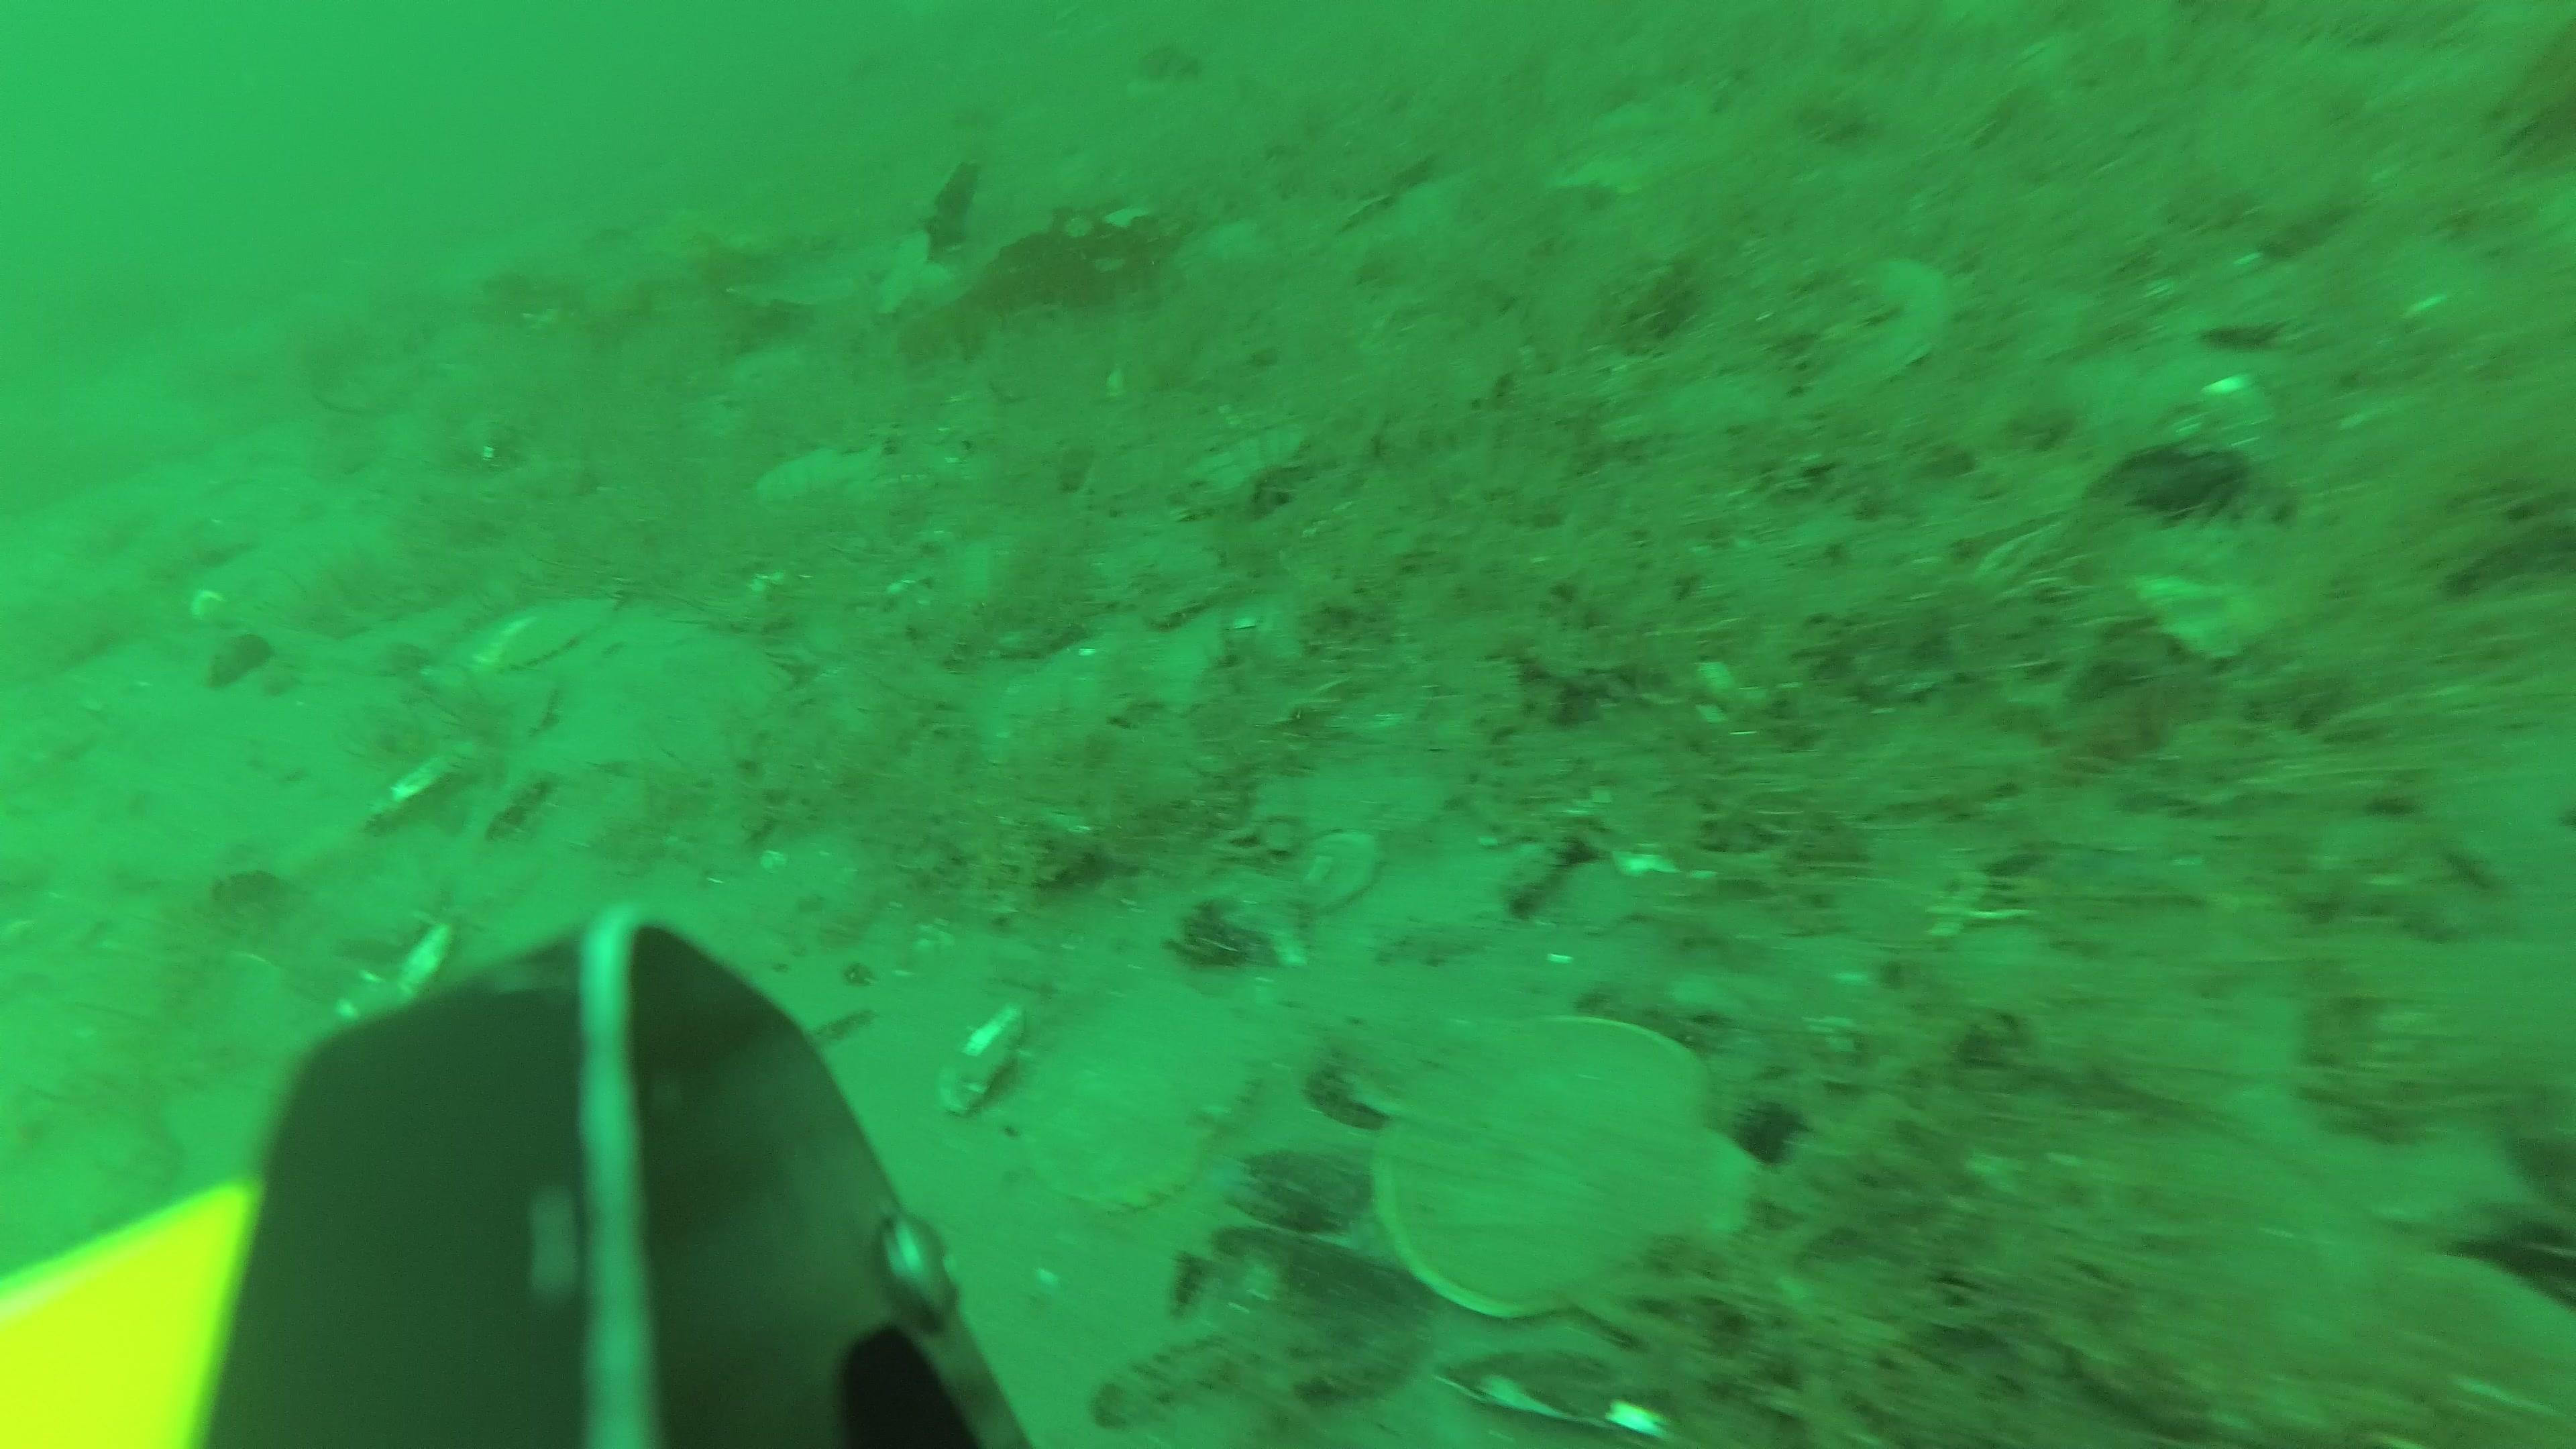scallop: (1375, 1016, 1771, 1350), (1024, 985, 1258, 1208), (1813, 260, 1955, 398), (430, 589, 625, 683), (755, 448, 888, 502)
